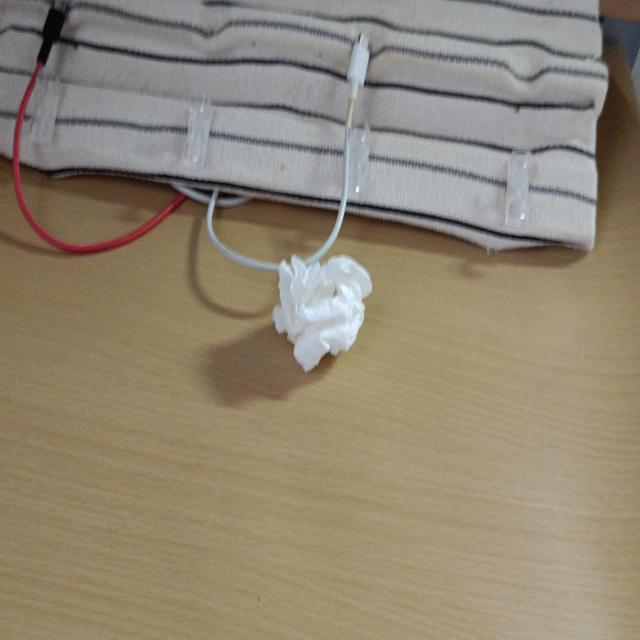衛生紙: (272, 248, 379, 384)
